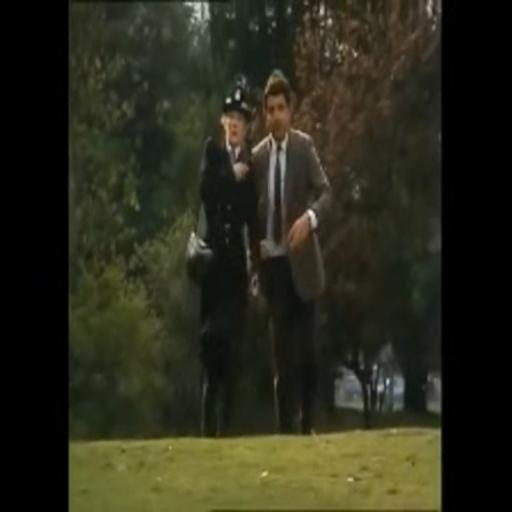nao-violencia: (172, 58, 339, 438)
